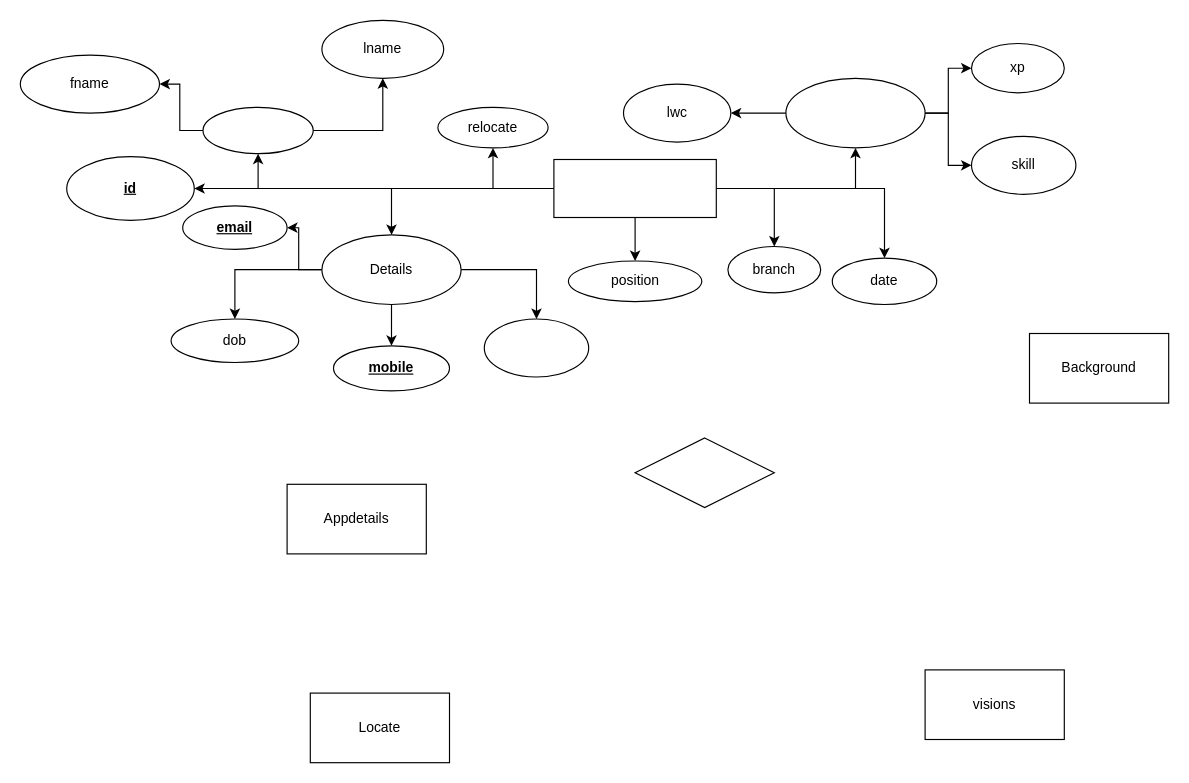
This 1189x783 diagram has some shape labels left out. Each missing label, with the box of its shape:
Experience: (785, 77, 925, 148)
linkedin: (483, 318, 589, 377)
Name: (202, 106, 313, 154)
Relationship: (634, 437, 774, 507)
Submissions: (553, 158, 716, 217)
